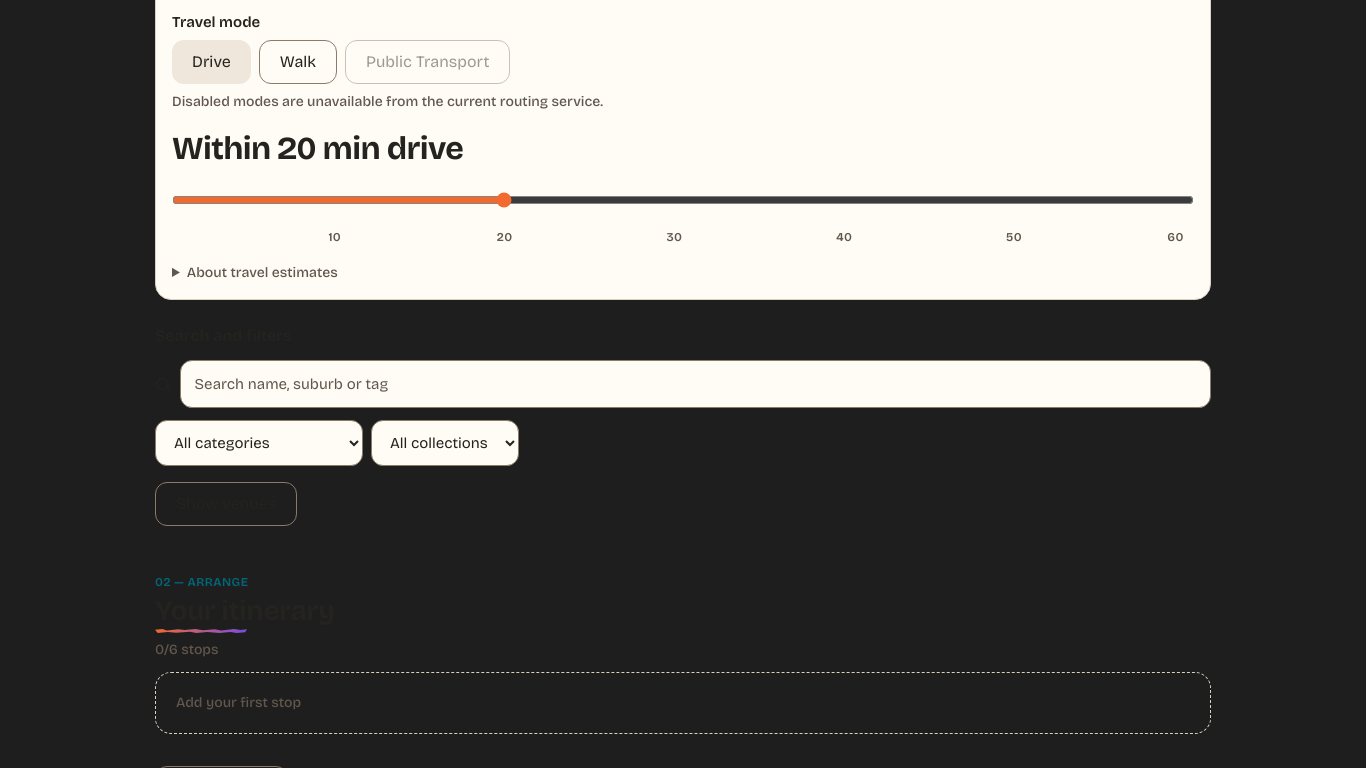
Scenario: unified planner interactions › preserves selected venues across all four modes without creating an event
The width and height of the screenshot is (1366, 768).
Earlier steps of the test are not shown.
(page scrolled)
Click the field named "Search venues": (695, 384) [180,360,1211,408]
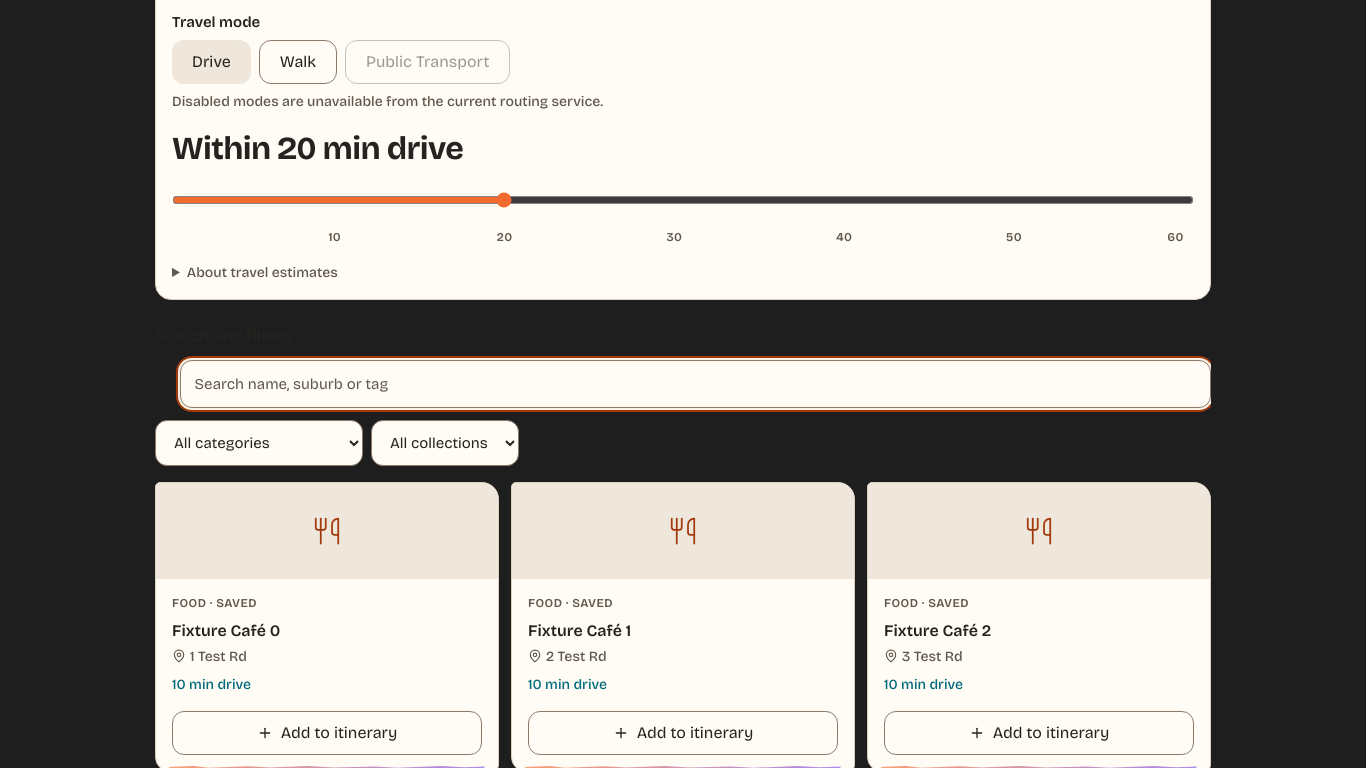
Expected: the heading "Fixture Café 0" is shown, [172,621,280,640]
Click the button "Add to itinerary" below "1 Test Rd": (327, 733) [172,711,482,755]
(page scrolled)
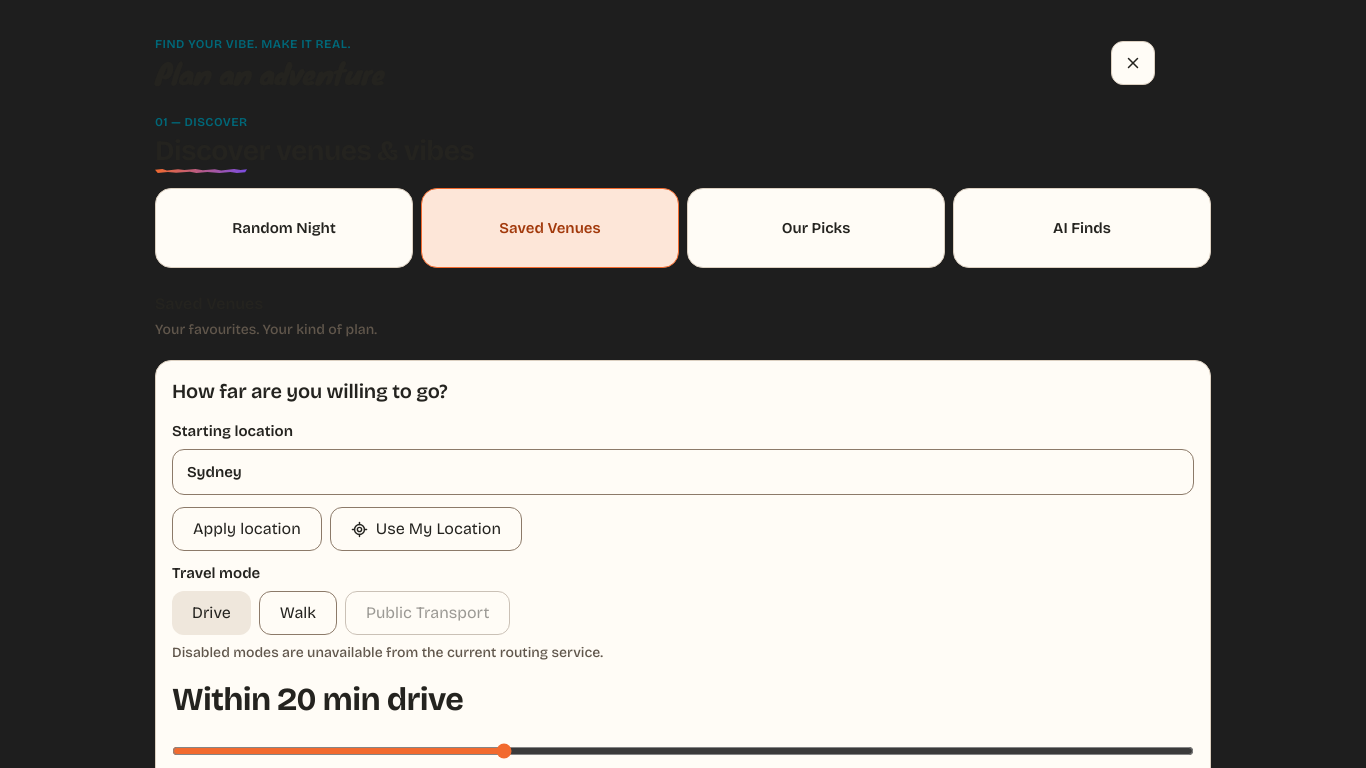
Click the button "Our Picks": (816, 228) [687,188,945,268]
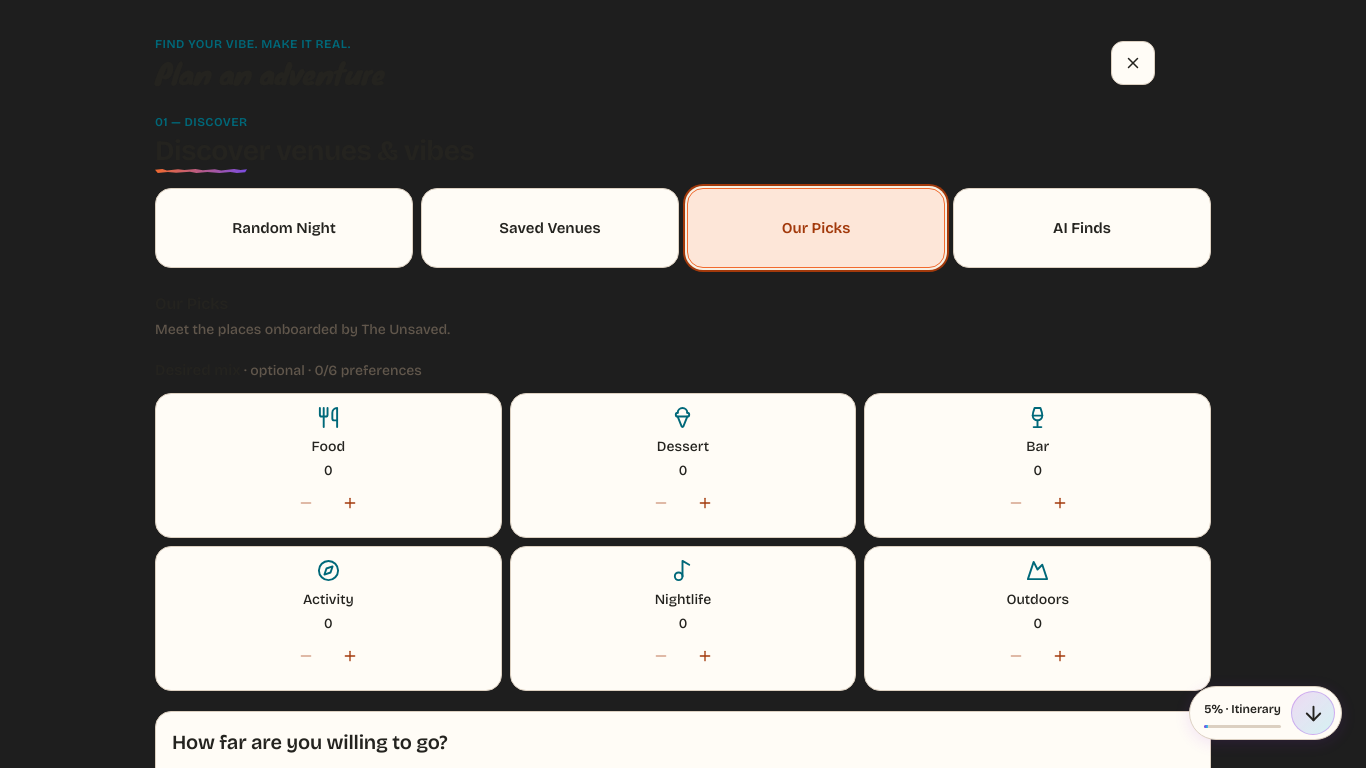
Click the button "AI Finds": (1082, 228) [953,188,1211,268]
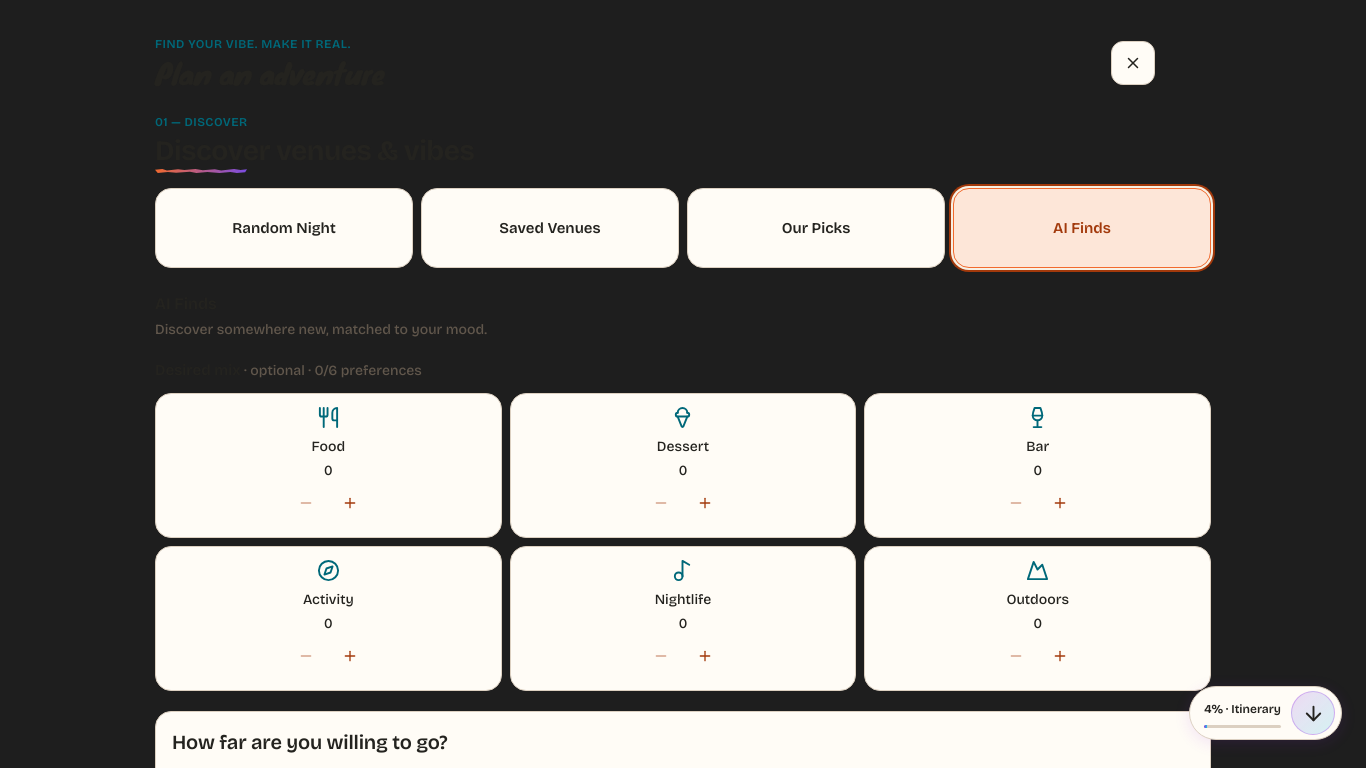
Click the button "Random Night": (284, 228) [155,188,413,268]
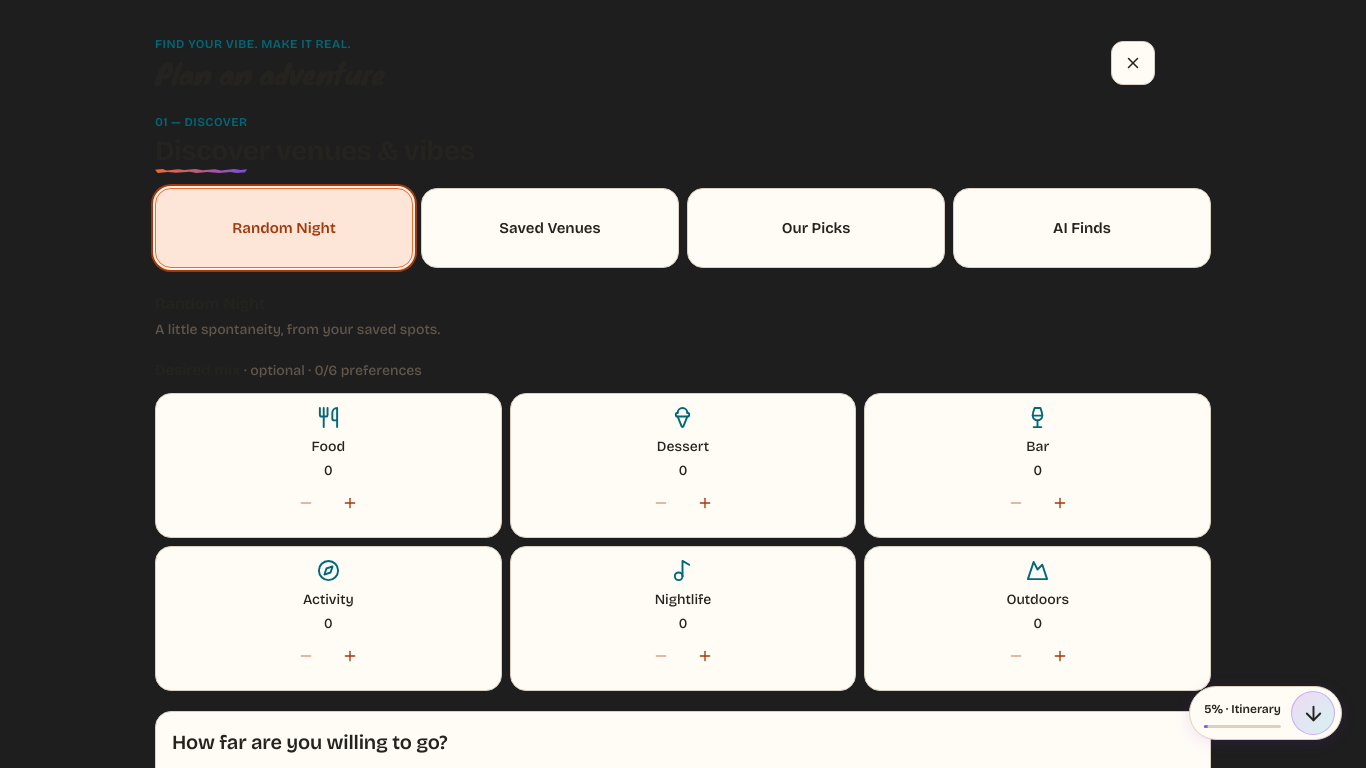
Click the button "Saved Venues": (550, 228) [421,188,679,268]
(page scrolled)
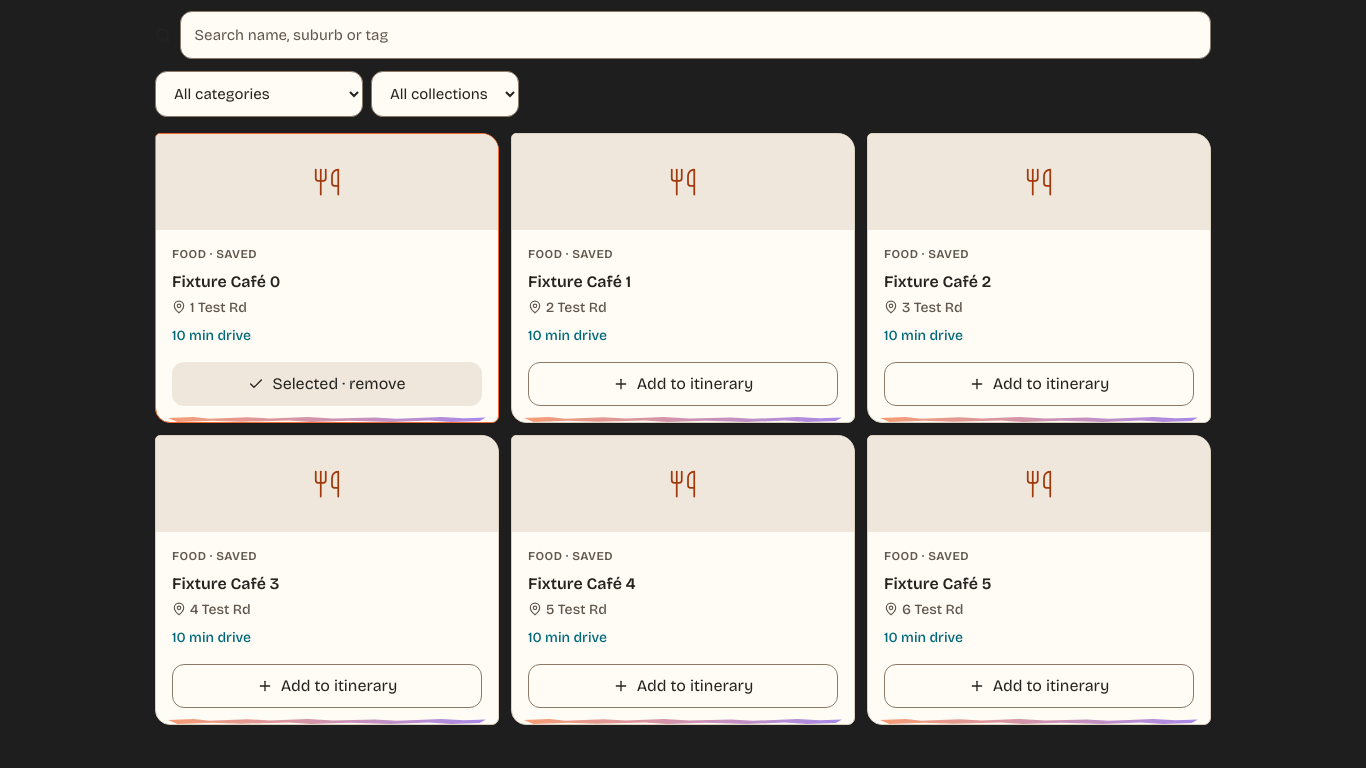
Expected: the button "Selected · remove" is shown, [172,362,482,406]
